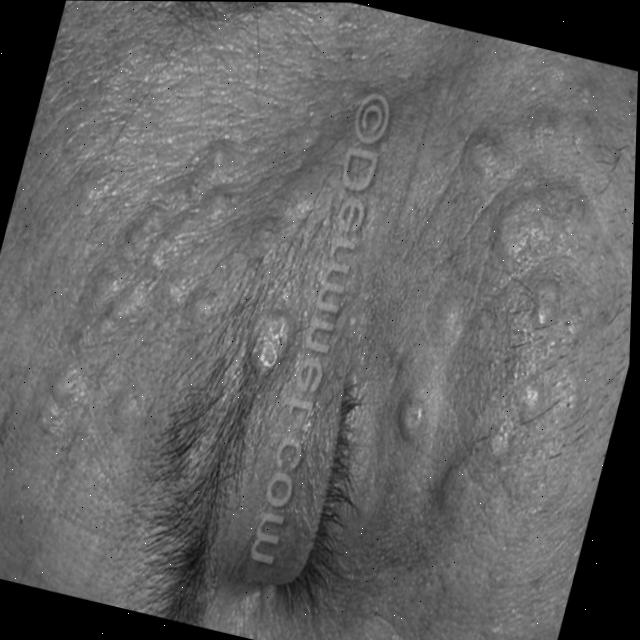Shingles: (360, 112, 637, 570), (44, 119, 321, 480)
